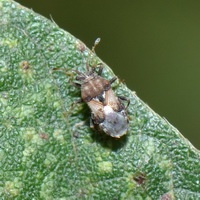insect: (53, 63, 129, 137)
